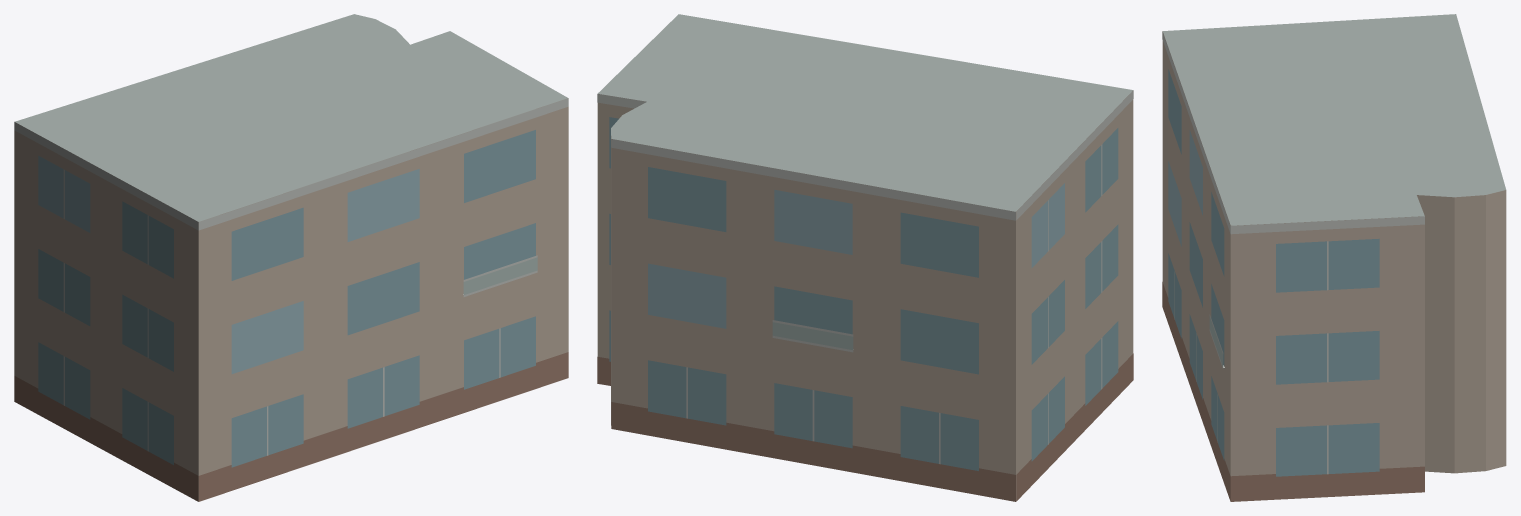
File: survey-upis-32577062.glb
3 renders of one model, left to right at view 1: azimuth 30°, elevation 25°; view 2: azimuth 150°, elevation 25°; view 3: azimuth 270°, elevation 25°, orthographic. The views are drawn at different scales.
Visible parts, largest first — view 1: survey-upis-32577062.tmp; view 2: survey-upis-32577062.tmp; view 3: survey-upis-32577062.tmp.
Boxes of the visible parts, left/top/right/bottom form: survey-upis-32577062.tmp: left=14, top=14, right=568, bottom=501; survey-upis-32577062.tmp: left=597, top=14, right=1133, bottom=501; survey-upis-32577062.tmp: left=1162, top=14, right=1506, bottom=501.
Size of the model in its own units: 13.08 by 7.95 by 8.98.
